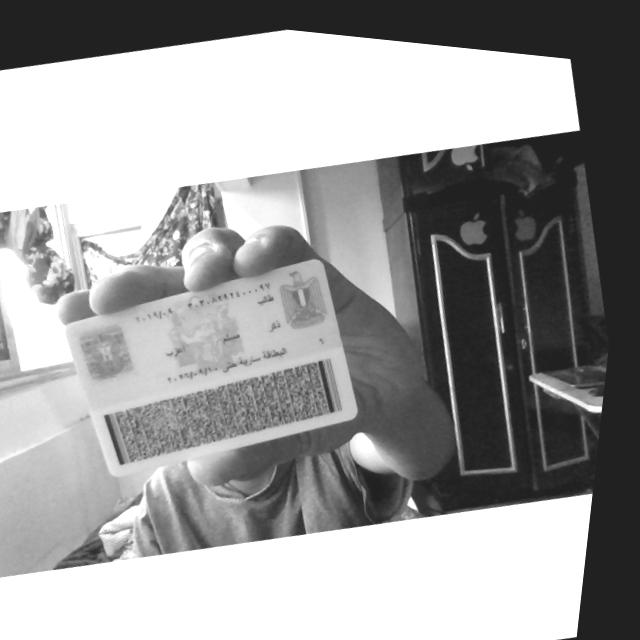back: (63, 259, 356, 475)
